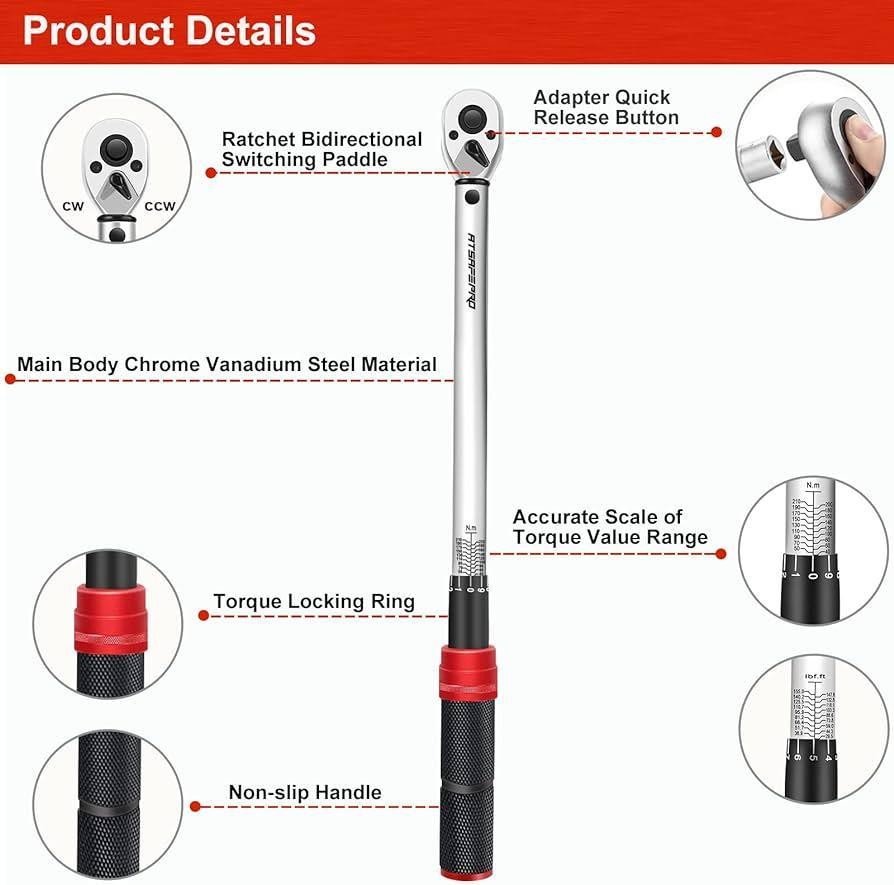Tool: (74, 114, 152, 218), (440, 87, 507, 180)
